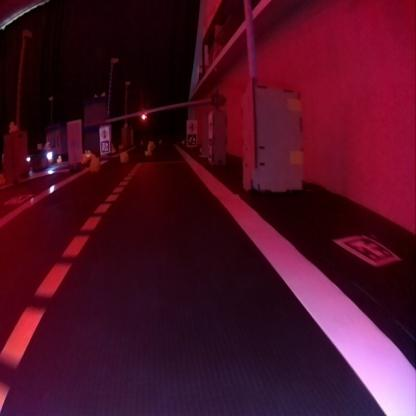Duckie: (90, 158, 99, 170), (120, 152, 128, 161), (55, 154, 62, 162), (146, 146, 152, 152)
Intersection sign: (187, 120, 195, 132)
QR code: (333, 232, 400, 266), (187, 133, 196, 145), (100, 140, 108, 151)
Signal sign: (100, 128, 107, 135)
